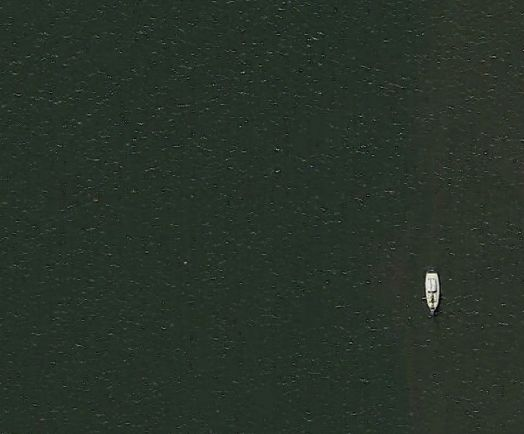boat: (423, 267, 442, 313)
